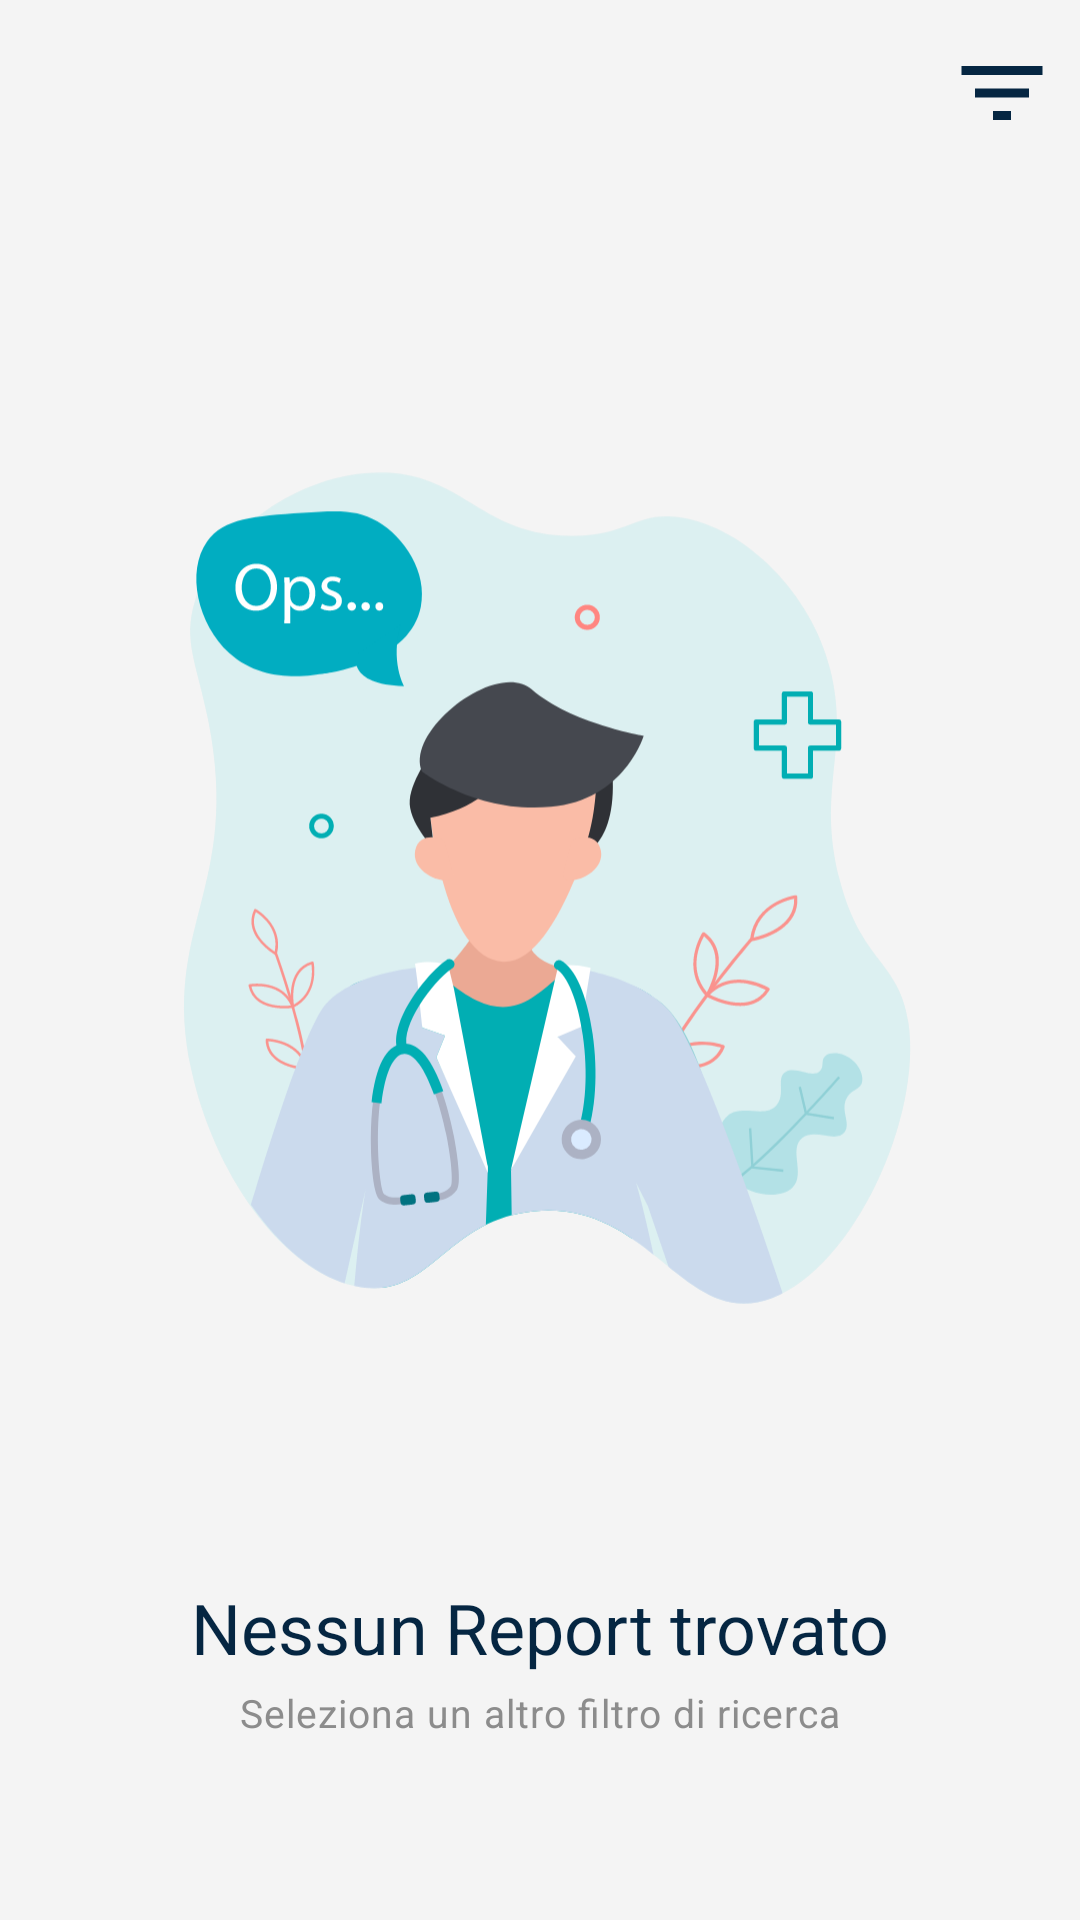

Icons on this 1080 × 1920 Android screen, each with the point to tap as (x=x, y=y):
filter: (x=1002, y=93)
